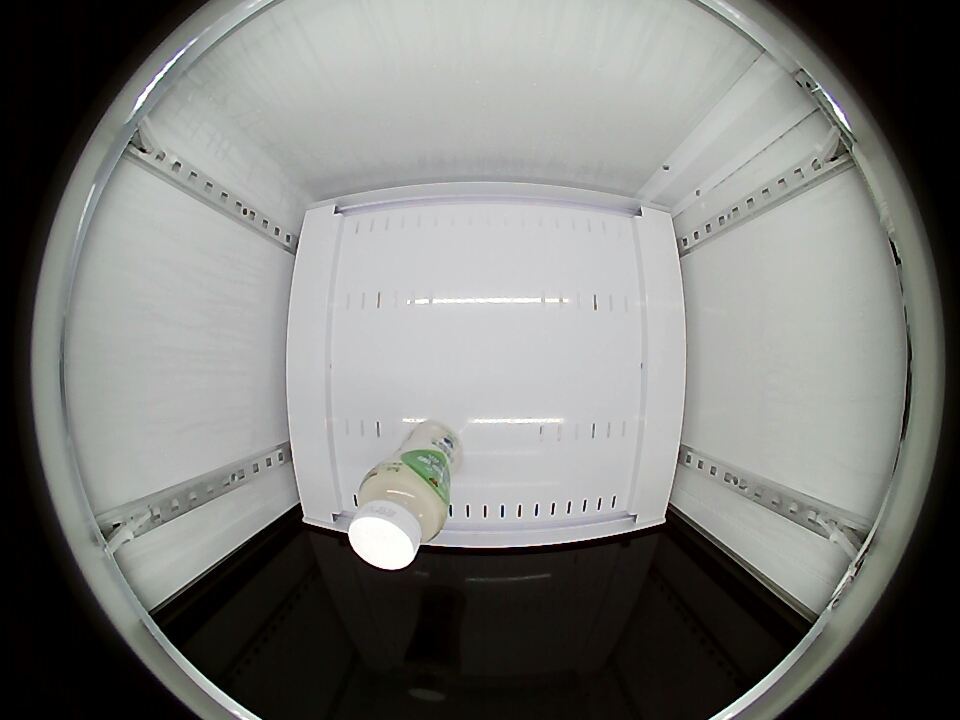yousuanru: (348, 462, 449, 570)
